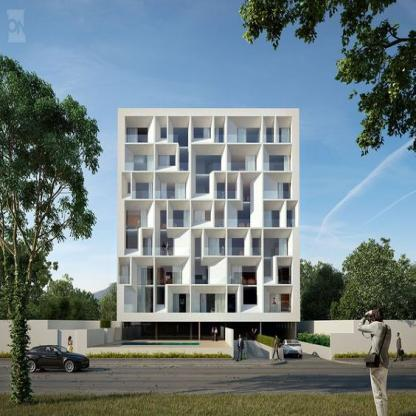Balcony: (122, 322, 261, 341), (155, 247, 189, 256), (228, 135, 261, 143), (125, 162, 154, 171), (228, 162, 257, 171), (263, 162, 291, 171), (155, 191, 186, 199), (228, 219, 259, 227), (263, 191, 293, 199), (125, 135, 154, 143), (204, 247, 225, 256), (270, 304, 291, 313), (228, 247, 248, 256), (168, 219, 189, 227), (133, 191, 153, 199), (275, 247, 292, 256), (264, 219, 280, 227), (212, 162, 226, 171), (277, 135, 292, 143), (277, 276, 292, 284), (142, 247, 154, 256), (178, 162, 189, 171), (168, 135, 179, 143), (264, 135, 275, 143), (227, 191, 238, 199), (119, 276, 130, 284), (252, 247, 261, 256), (215, 135, 225, 143), (215, 191, 225, 199), (215, 219, 225, 227), (287, 219, 295, 227)
Building Outline: (77, 108, 416, 360)
Door: (261, 322, 295, 348)
Facade: (117, 108, 300, 360)
Glass Wall: (200, 293, 226, 313), (230, 266, 257, 285), (196, 155, 222, 174), (157, 266, 182, 285), (264, 238, 288, 257), (270, 293, 291, 313), (126, 210, 148, 229), (231, 155, 257, 171), (138, 287, 154, 313), (161, 183, 186, 199), (277, 258, 292, 284), (126, 127, 148, 143), (269, 155, 291, 171), (237, 128, 260, 143), (173, 293, 190, 313), (195, 259, 208, 284), (160, 231, 173, 256), (133, 155, 153, 171), (138, 266, 154, 285), (173, 127, 188, 147), (228, 238, 245, 255), (208, 238, 225, 255), (238, 204, 250, 227), (136, 183, 153, 199), (263, 210, 279, 227), (173, 210, 189, 227), (196, 177, 210, 194), (277, 183, 291, 199), (126, 231, 137, 249), (193, 211, 211, 222), (278, 127, 290, 143), (194, 128, 211, 139), (159, 155, 176, 166), (180, 149, 188, 171), (120, 266, 129, 284), (215, 210, 224, 227), (143, 238, 152, 255), (252, 238, 260, 255), (216, 127, 224, 143), (217, 183, 225, 199), (227, 183, 235, 199), (243, 184, 250, 202), (266, 127, 274, 142), (287, 210, 292, 227)
Pillar: (198, 322, 200, 340), (190, 322, 192, 339), (260, 322, 261, 340), (156, 322, 157, 339)
Window: (191, 144, 226, 199), (227, 172, 262, 227), (155, 257, 189, 313), (227, 257, 261, 313), (155, 200, 189, 256), (191, 229, 225, 284), (263, 229, 293, 284), (124, 257, 153, 313), (125, 200, 153, 256), (168, 116, 190, 171), (191, 286, 226, 313), (227, 116, 261, 143), (155, 173, 189, 199), (228, 145, 261, 171), (124, 116, 154, 143), (125, 144, 154, 171), (264, 144, 292, 171), (264, 286, 292, 313), (264, 173, 292, 199), (168, 200, 190, 227), (263, 201, 285, 228), (168, 286, 190, 313), (155, 145, 177, 171), (204, 229, 226, 255), (192, 116, 213, 143), (191, 200, 212, 227), (132, 173, 153, 199), (228, 229, 249, 255), (277, 116, 293, 143), (277, 257, 293, 284), (156, 116, 168, 143), (263, 116, 275, 143), (286, 201, 298, 228), (227, 286, 239, 313), (142, 229, 154, 255), (215, 116, 226, 143), (215, 200, 226, 227), (119, 257, 130, 284), (227, 173, 238, 199), (251, 229, 262, 255), (215, 174, 226, 200), (243, 287, 257, 304), (122, 173, 131, 199), (227, 293, 235, 313), (157, 287, 165, 304), (264, 258, 271, 277), (160, 210, 167, 229), (195, 238, 201, 257), (161, 128, 167, 139), (128, 183, 131, 194)
